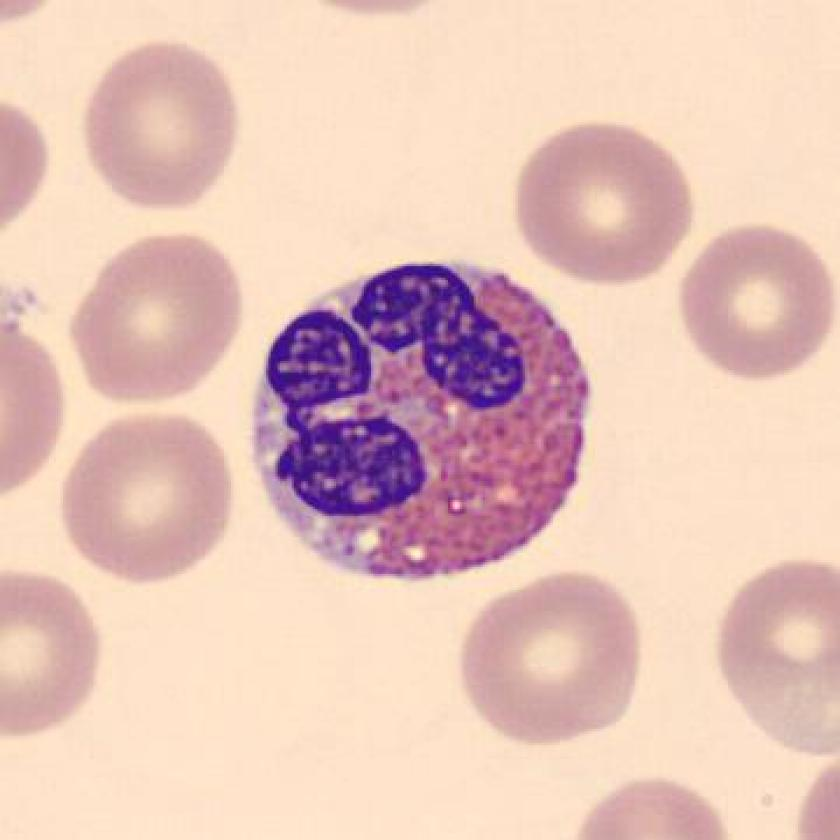eosinophil: (239, 251, 603, 584)
